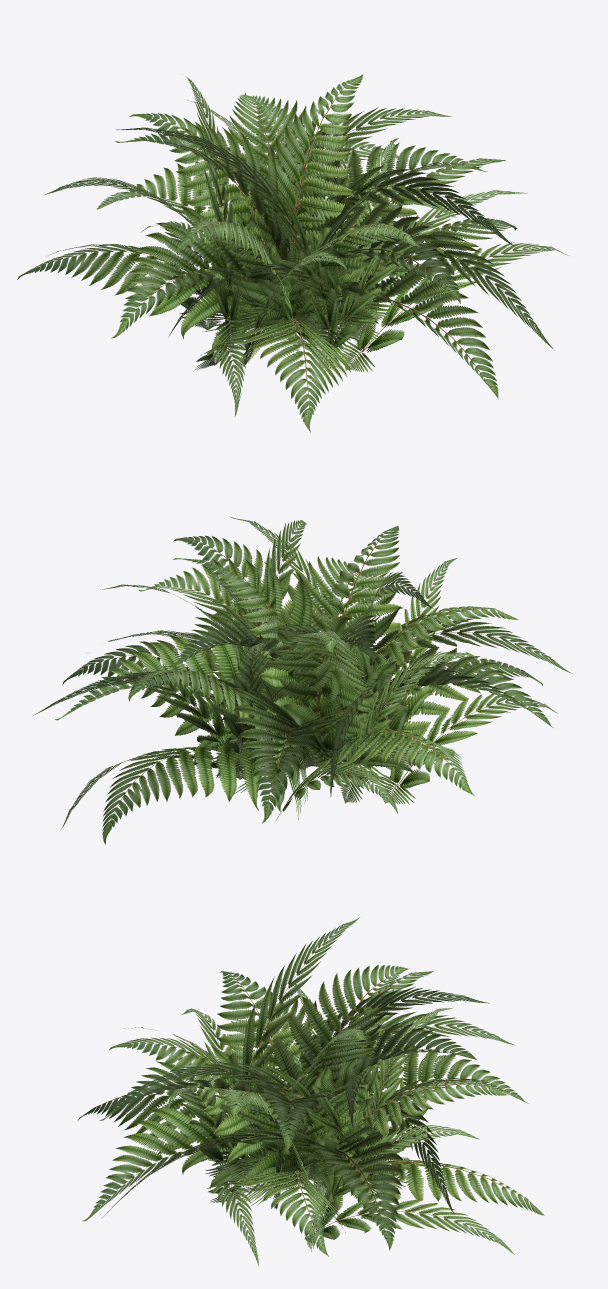
Rendered from fern-b.glb.
The picture shows the model from 3 angles, top to bottom: view 1: azimuth 30°, elevation 25°; view 2: azimuth 150°, elevation 25°; view 3: azimuth 270°, elevation 25°; orthographic projection. The views are drawn at different scales.
Parts seen in each view (by area): view 1: fern-b; view 2: fern-b; view 3: fern-b.
Boxes of the visible parts, x1=… form: fern-b: x1=17, y1=74, x2=569, y2=432; fern-b: x1=33, y1=516, x2=572, y2=844; fern-b: x1=78, y1=917, x2=544, y2=1266.
Bounding box in the file's own units: 2.77 × 1.43 × 2.78.
1 material, 1 textured.
